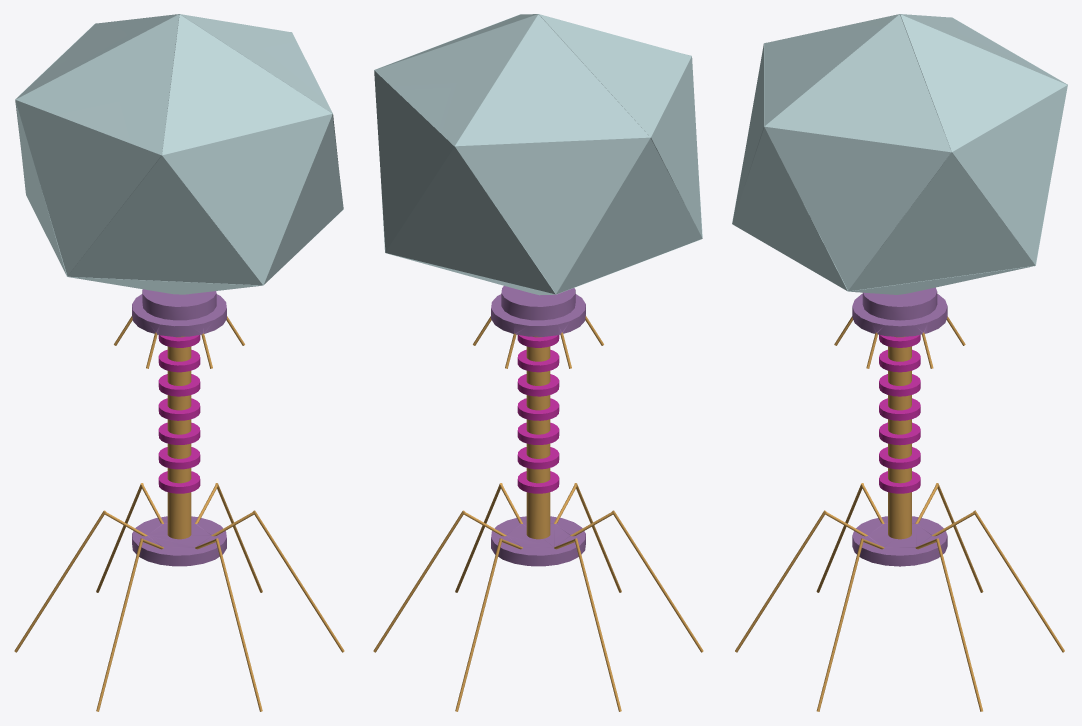
The picture shows the model from 3 angles, left to right: view 1: azimuth 30°, elevation 25°; view 2: azimuth 150°, elevation 25°; view 3: azimuth 270°, elevation 25°; orthographic projection.
Visible parts, largest first — view 1: Mesh_Mesh_head_geo.001_lambert2SG.001_0; view 2: Mesh_Mesh_head_geo.001_lambert2SG.001_0; view 3: Mesh_Mesh_head_geo.001_lambert2SG.001_0.
Part boxes in pixels (left/top/right/bottom): Mesh_Mesh_head_geo.001_lambert2SG.001_0: left=14, top=14, right=344, bottom=711; Mesh_Mesh_head_geo.001_lambert2SG.001_0: left=373, top=14, right=703, bottom=711; Mesh_Mesh_head_geo.001_lambert2SG.001_0: left=732, top=14, right=1067, bottom=711.
Bounding box in the file's own units: 21.46 × 47.28 × 22.55.
